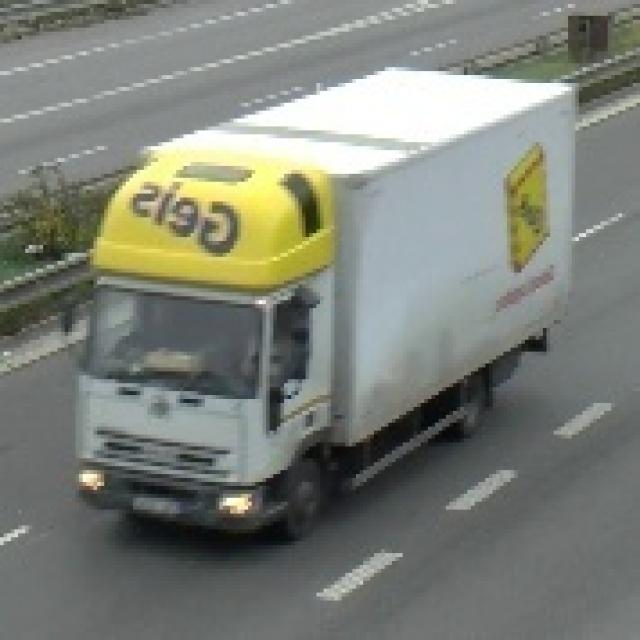truck: (58, 60, 572, 538)
